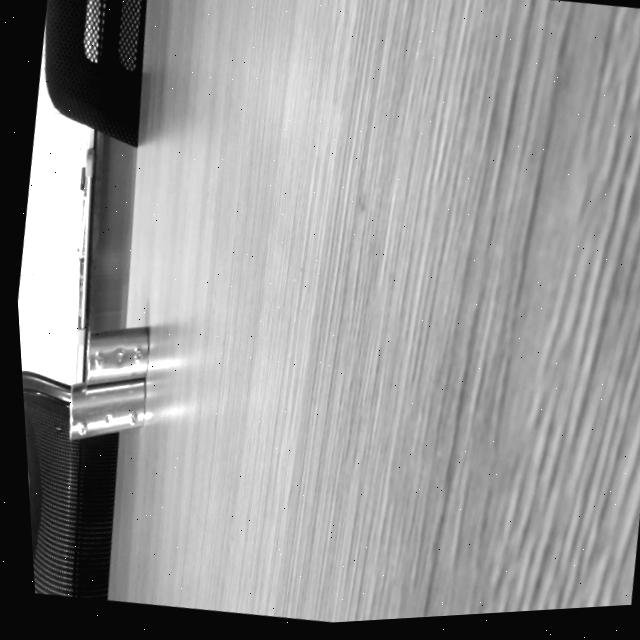Co_Lon: (63, 377, 149, 440)
Co_Nho: (81, 327, 151, 385)
